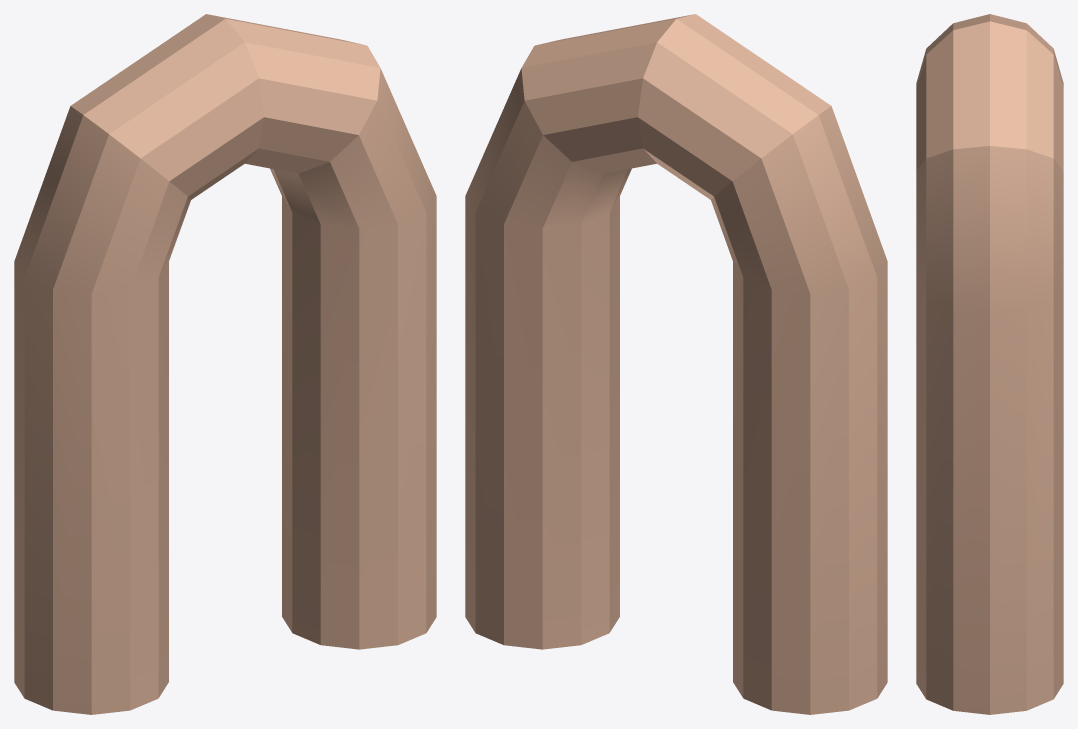
Rendered from door.fbx.
The picture shows the model from 3 angles, left to right: view 1: azimuth 30°, elevation 25°; view 2: azimuth 150°, elevation 25°; view 3: azimuth 270°, elevation 25°; orthographic projection. The views are drawn at different scales.
Visible parts, largest first — view 1: pTorus1; view 2: pTorus1; view 3: pTorus1.
Boxes of the visible parts, x1=… form: pTorus1: x1=14, y1=14, x2=436, y2=714; pTorus1: x1=465, y1=14, x2=887, y2=714; pTorus1: x1=916, y1=14, x2=1063, y2=714.
Bounding box in the file's own units: 4.5 × 6.75 × 1.5.
